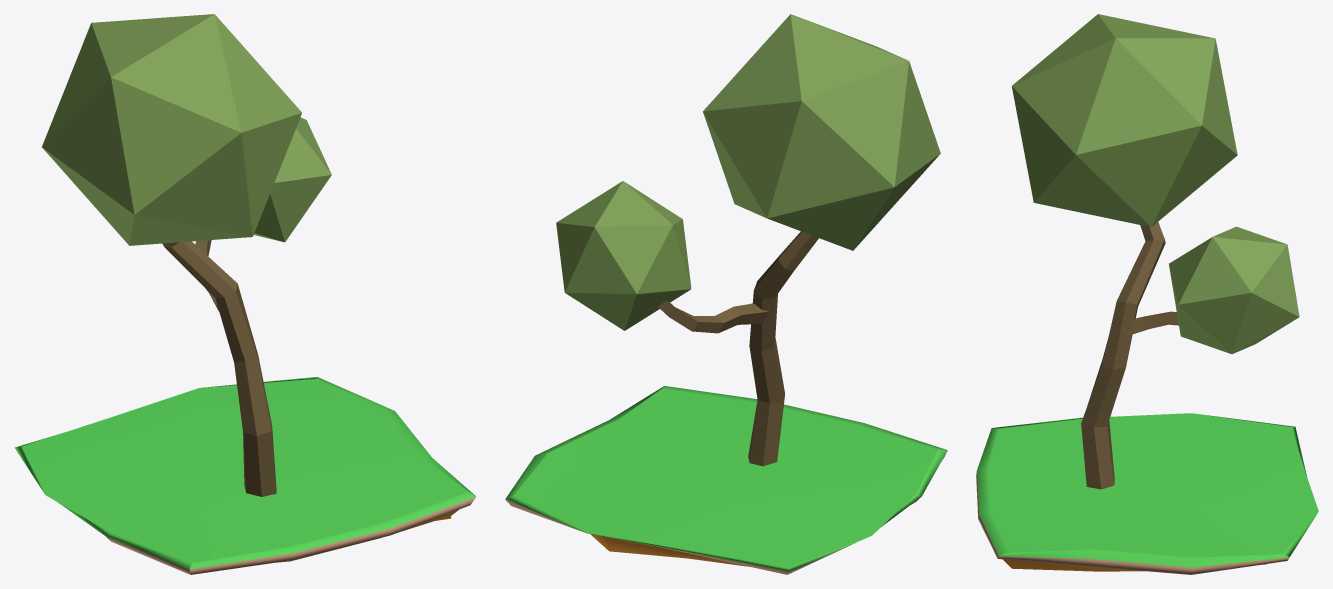
Rendered from Plant3.fbx.
The picture shows the model from 3 angles, left to right: view 1: azimuth 30°, elevation 25°; view 2: azimuth 150°, elevation 25°; view 3: azimuth 270°, elevation 25°; orthographic projection. The views are drawn at different scales.
Parts seen in each view (by area): view 1: Lowpoly_tree_sample:Default, Ground1; view 2: Lowpoly_tree_sample:Default, Ground1; view 3: Lowpoly_tree_sample:Default, Ground1.
Part boxes in pixels (x1,y1,x2,y2): Lowpoly_tree_sample:Default: (42,14,331,496); Ground1: (14,377,476,574); Lowpoly_tree_sample:Default: (556,14,940,466); Ground1: (505,386,947,574); Lowpoly_tree_sample:Default: (1011,14,1299,489); Ground1: (976,413,1318,574).
Size of the model in its own units: 6.52 by 8.97 by 5.89.
